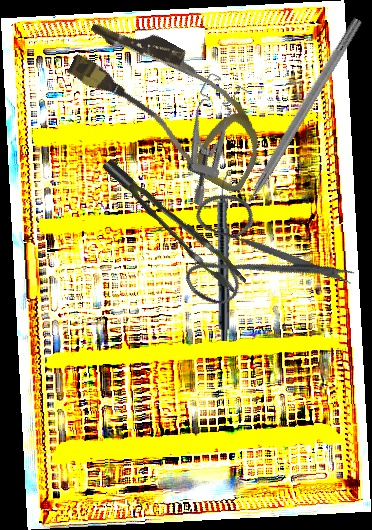Cannula: (54, 5, 287, 197)
Handpiece: (215, 173, 234, 342)
Hook Surgical: (231, 15, 364, 223)
Iris Scissors: (157, 153, 361, 350)
Speculum: (154, 71, 259, 207)
Tissue Forceps: (102, 142, 247, 305)
